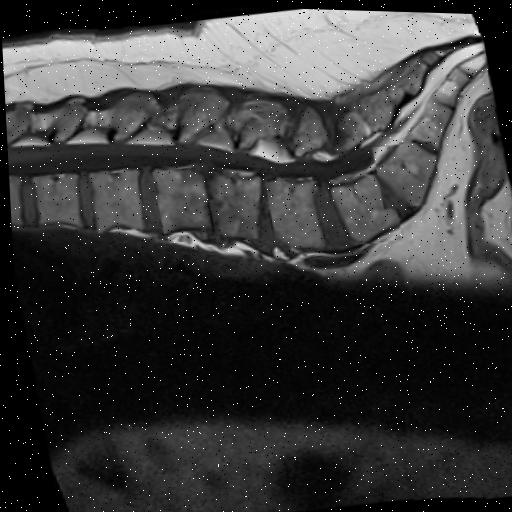L1: (88, 169, 144, 229)
L2: (150, 166, 208, 232)
L3: (211, 172, 259, 236)
L4: (266, 177, 323, 243)
L5: (328, 172, 397, 240)
S1: (375, 139, 434, 202)
